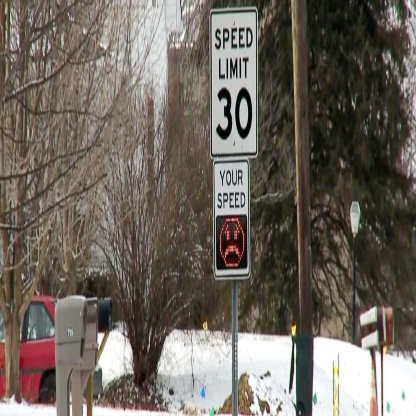limit1: (209, 12, 258, 158)
